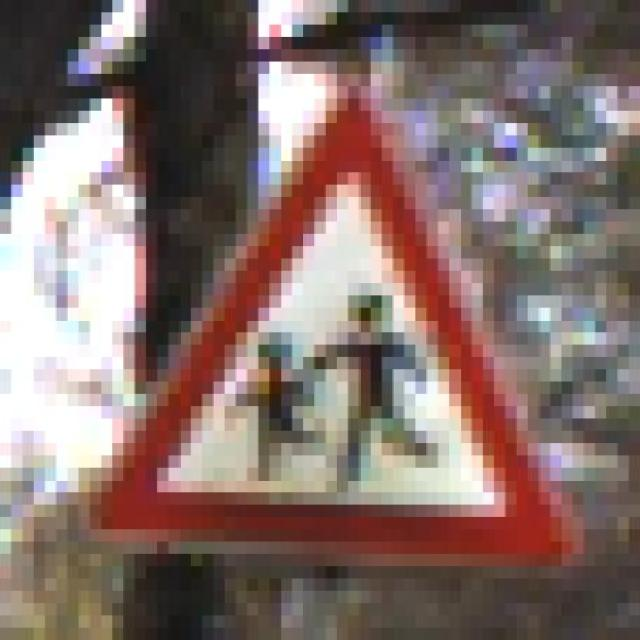Beware of children: (56, 99, 607, 566)
